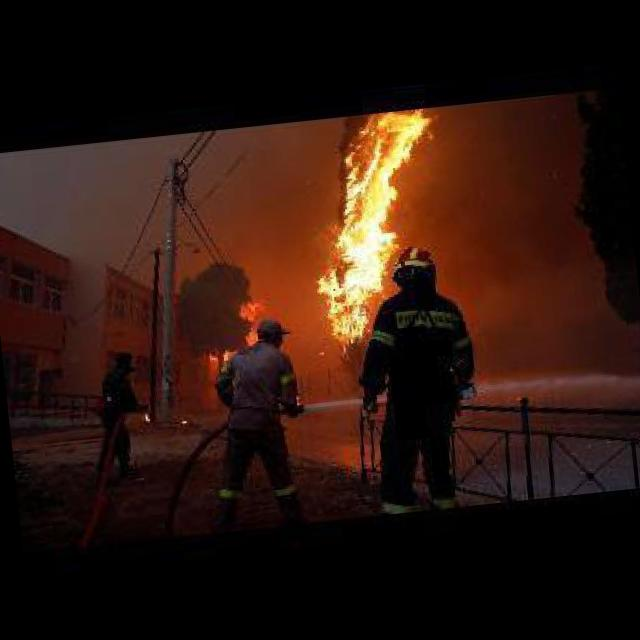Fire: (293, 106, 458, 346), (201, 288, 272, 368)
